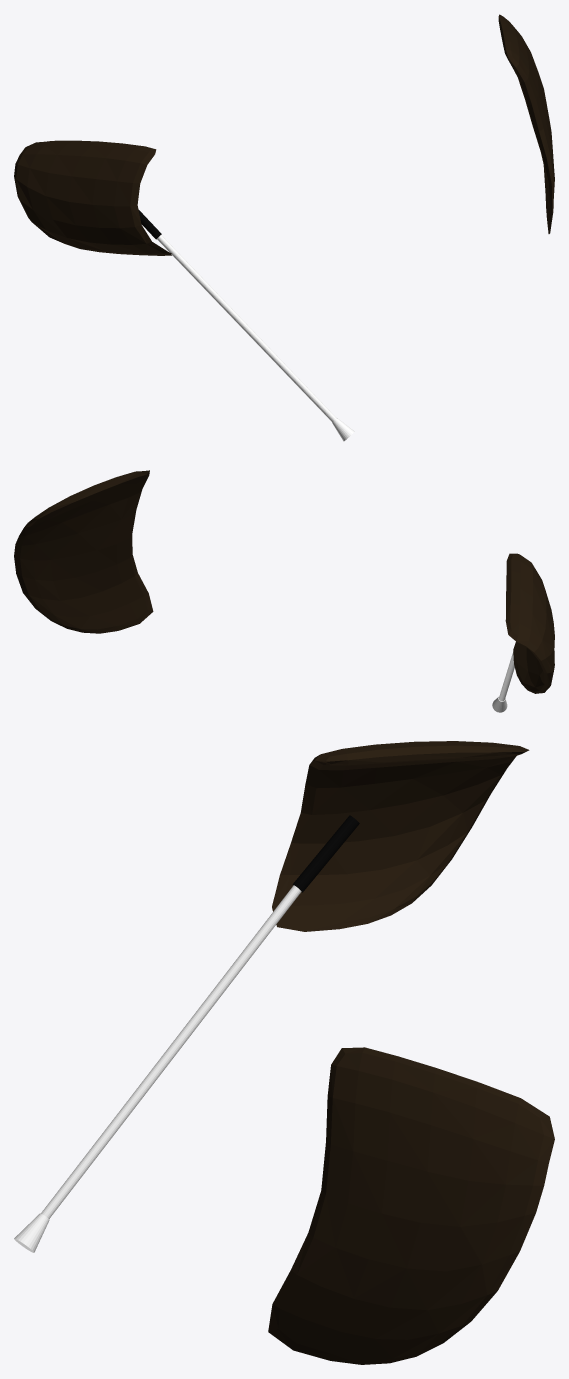
File: HandsAndWhiteCane.FBX
3 renders of one model, top to bottom at view 1: azimuth 30°, elevation 25°; view 2: azimuth 150°, elevation 25°; view 3: azimuth 270°, elevation 25°, orthographic. The views are drawn at different scales.
Visible parts, largest first — view 1: HandLeft, HandRight, Cylinder01; view 2: HandRight, HandLeft; view 3: HandRight, HandLeft, Cylinder01, Cylinder02.
Boxes of the visible parts, x1=… form: HandLeft: x1=14, y1=140, x2=171, y2=255; HandRight: x1=498, y1=14, x2=554, y2=233; Cylinder01: x1=157, y1=235, x2=336, y2=422; HandRight: x1=14, y1=470, x2=153, y2=633; HandLeft: x1=505, y1=553, x2=554, y2=693; HandRight: x1=268, y1=1047, x2=554, y2=1364; HandLeft: x1=272, y1=741, x2=529, y2=931; Cylinder01: x1=41, y1=885, x2=301, y2=1218; Cylinder02: x1=292, y1=815, x2=359, y2=892.
Bounding box in the file's own units: 77.56 × 35.41 × 41.81.
